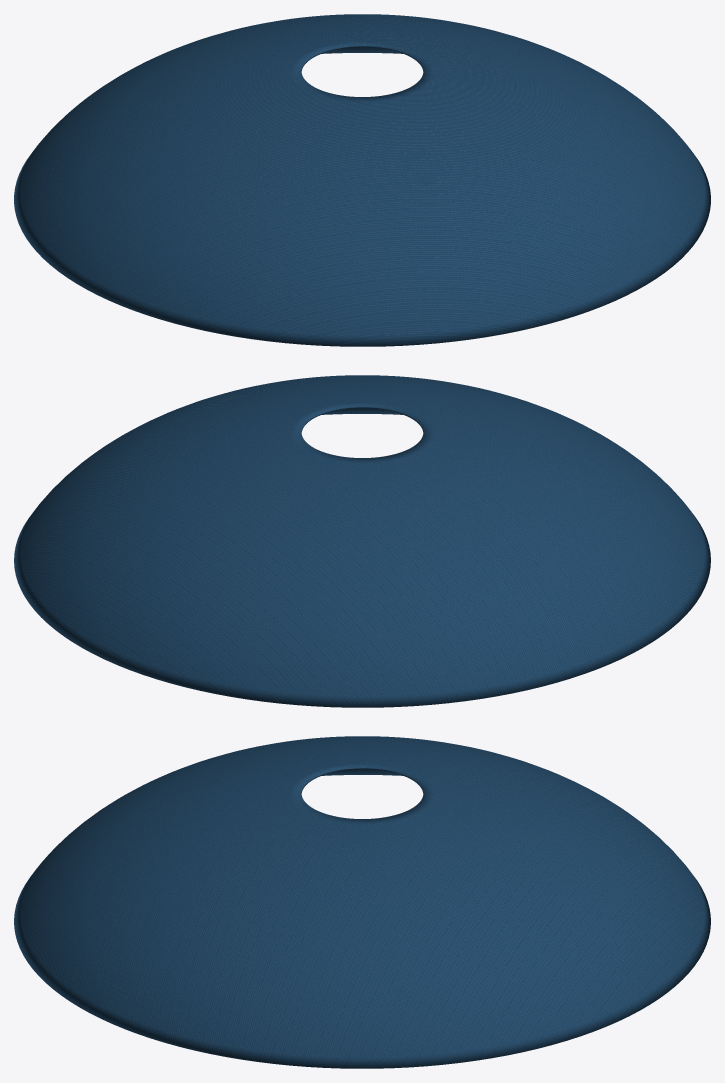
File: glass_dome.obj
3 renders of one model, top to bottom at view 1: azimuth 30°, elevation 25°; view 2: azimuth 150°, elevation 25°; view 3: azimuth 270°, elevation 25°, orthographic.
Parts seen in each view (by area): view 1: KB3D_LNB_BldgXLG_C_Dome; view 2: KB3D_LNB_BldgXLG_C_Dome; view 3: KB3D_LNB_BldgXLG_C_Dome.
Boxes of the visible parts, x1,y1,x2,y2 form: KB3D_LNB_BldgXLG_C_Dome: (14, 14, 710, 346); KB3D_LNB_BldgXLG_C_Dome: (14, 375, 710, 707); KB3D_LNB_BldgXLG_C_Dome: (14, 736, 710, 1068).
Bounding box in the file's own units: 32.67 × 6.63 × 32.67.
